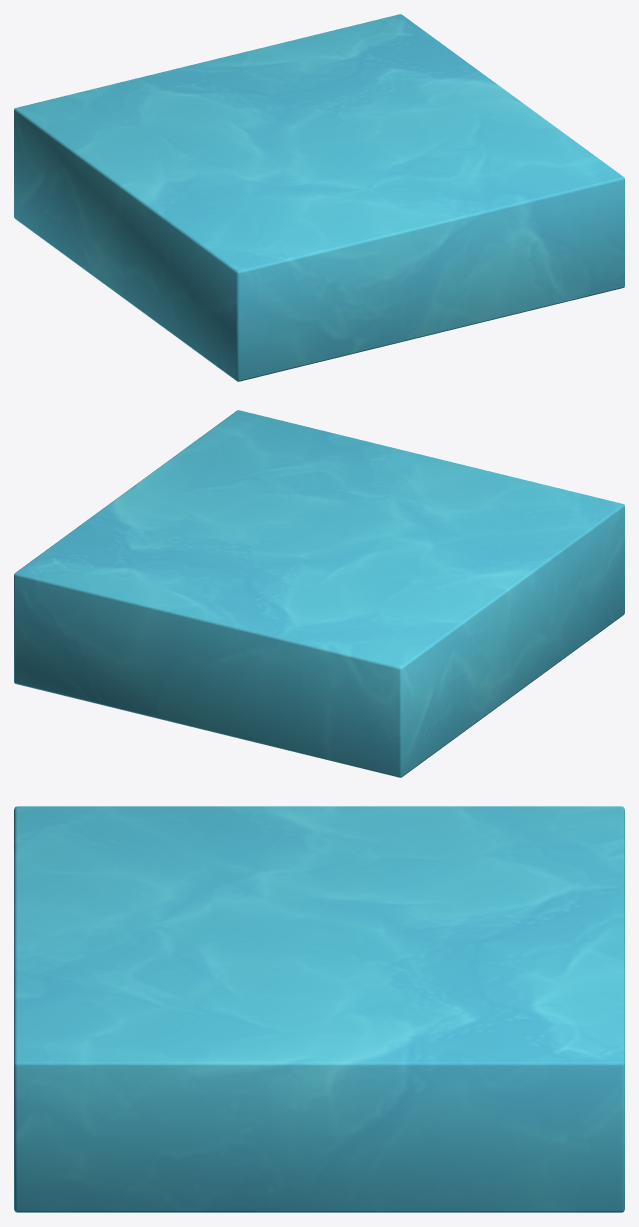
File: SM_RunFloorIce03.fbx
The picture shows the model from 3 angles, top to bottom: view 1: azimuth 30°, elevation 25°; view 2: azimuth 150°, elevation 25°; view 3: azimuth 270°, elevation 25°; orthographic projection. The views are drawn at different scales.
Visible parts, largest first — view 1: SM_RunFloorIce03; view 2: SM_RunFloorIce03; view 3: SM_RunFloorIce03.
Part boxes in pixels (bbox=[...]): SM_RunFloorIce03: bbox=[14, 14, 624, 381]; SM_RunFloorIce03: bbox=[14, 410, 624, 777]; SM_RunFloorIce03: bbox=[14, 806, 624, 1212].
Size of the model in its own units: 1529 by 419 by 1532.
